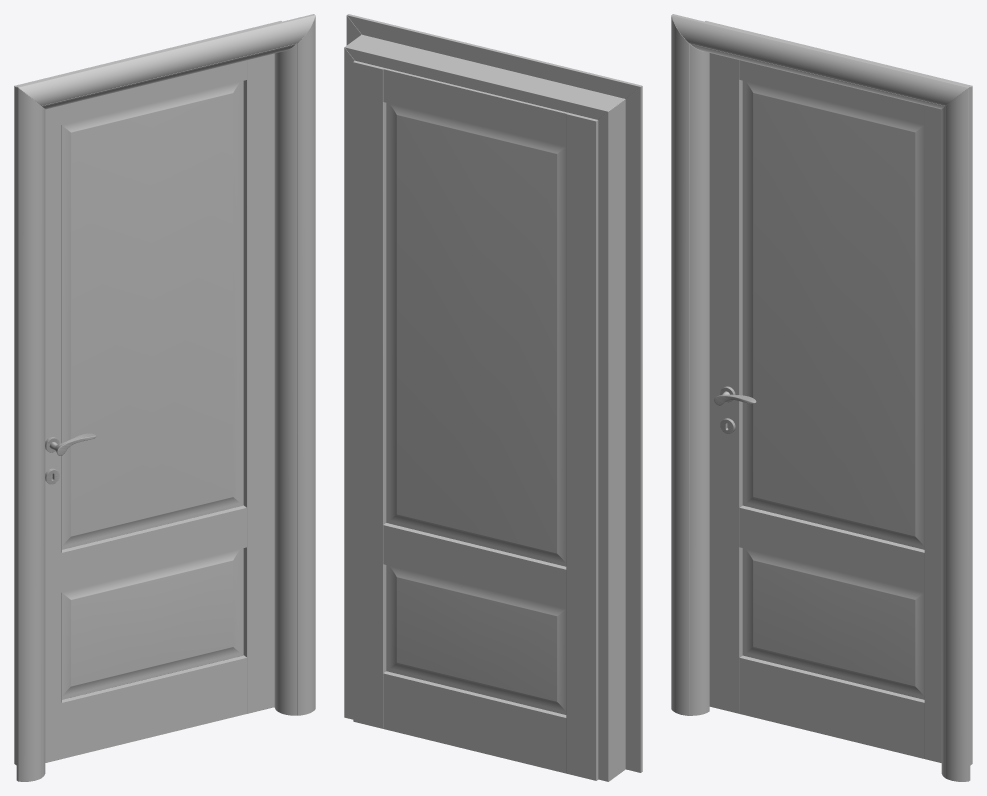
Rendered from Porta Beta 2 noce naz.fbx.
3 views of the same model, side by side, from view 1: azimuth 30°, elevation 25°; view 2: azimuth 150°, elevation 25°; view 3: azimuth 330°, elevation 25° (orthographic).
Parts seen in each view (by area): view 1: Object020, Maniglia05_H198; view 2: Object020, Object015; view 3: Object020, Object015, Maniglia05_H198.
Part boxes in pixels (x1,y1,x2,y2): Object020: [14, 14, 315, 781]; Maniglia05_H198: [45, 433, 96, 484]; Object020: [344, 14, 642, 781]; Object015: [596, 121, 596, 780]; Object020: [671, 14, 972, 781]; Object015: [739, 80, 742, 657]; Maniglia05_H198: [714, 386, 756, 433].
Size of the model in its own units: 98 by 13.93 by 219.
